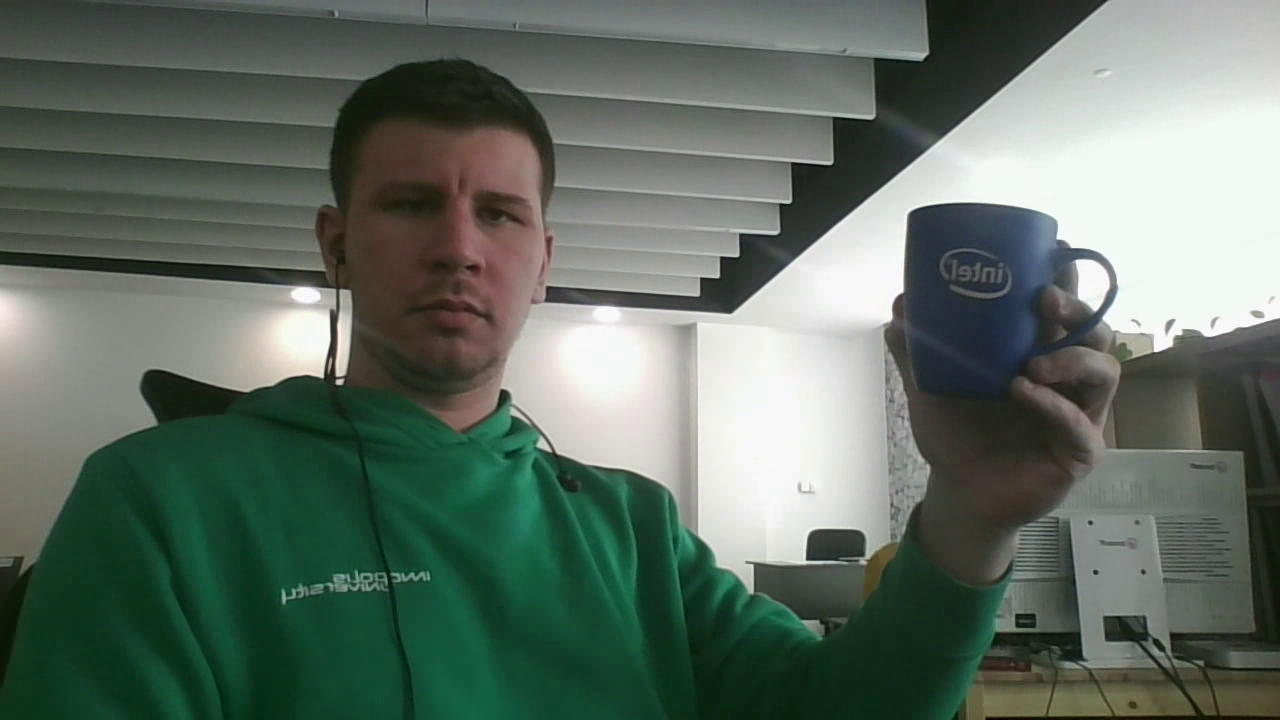cup: (904, 201, 1117, 396)
